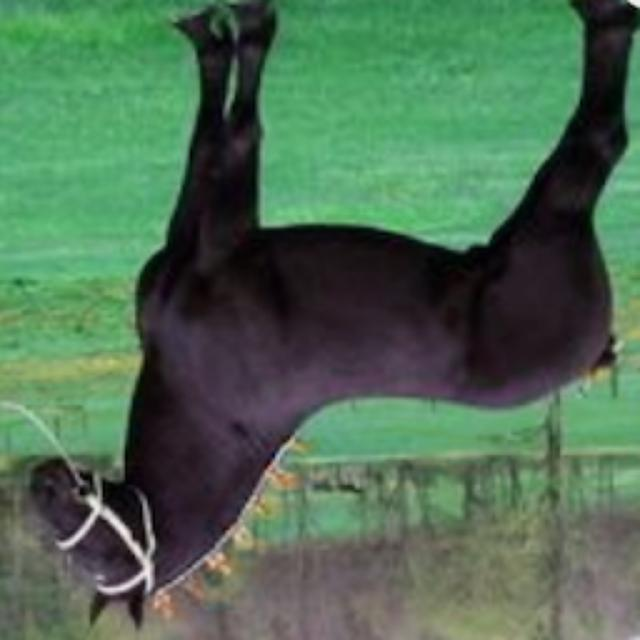Horse: (20, 2, 638, 638)
